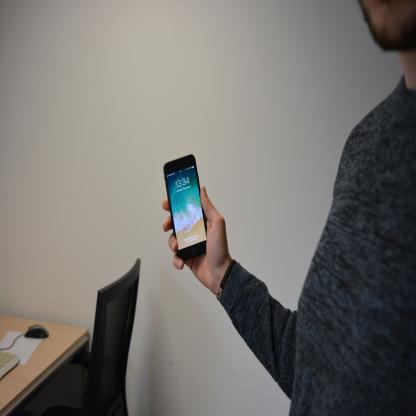smartphone: (163, 153, 207, 262)
